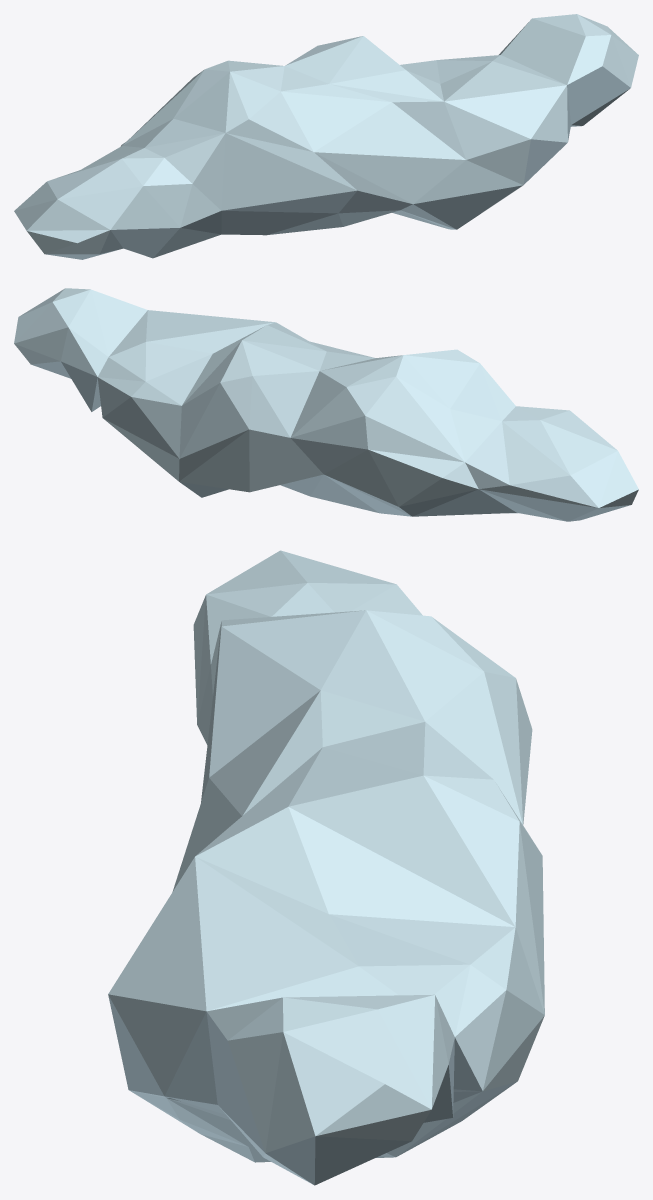
Rendered from SM_Env_Cloud_02.fbx.
3 renders of one model, top to bottom at view 1: azimuth 30°, elevation 25°; view 2: azimuth 150°, elevation 25°; view 3: azimuth 270°, elevation 25°, orthographic. The views are drawn at different scales.
Parts seen in each view (by area): view 1: SM_Env_Cloud_02; view 2: SM_Env_Cloud_02; view 3: SM_Env_Cloud_02.
Boxes of the visible parts, bbox=[...] form: SM_Env_Cloud_02: bbox=[14, 14, 638, 259]; SM_Env_Cloud_02: bbox=[14, 288, 638, 521]; SM_Env_Cloud_02: bbox=[108, 550, 544, 1185].
Size of the model in its own units: 0.0872 by 0.0249 by 0.0269.
Materials: 1 (1 with a texture image).
